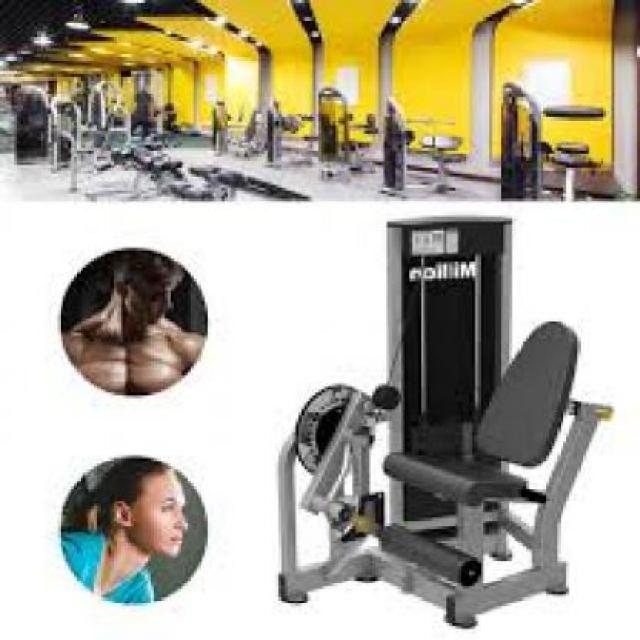leg extension: (255, 207, 629, 640)
